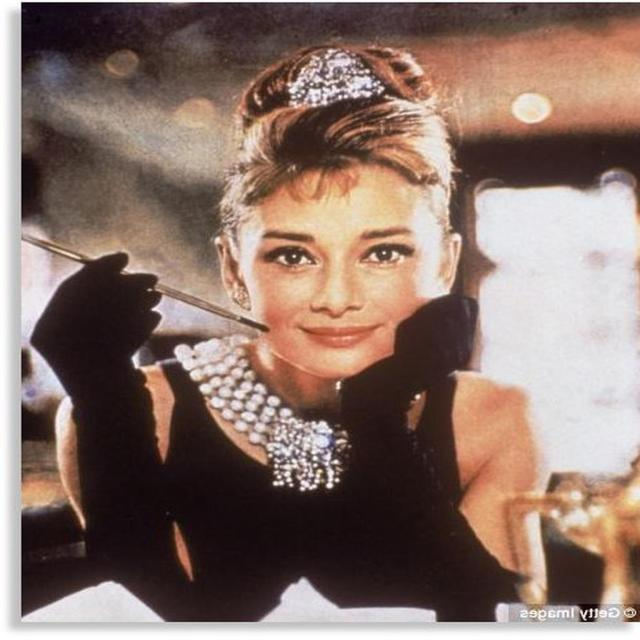smoking: (15, 142, 441, 379)
